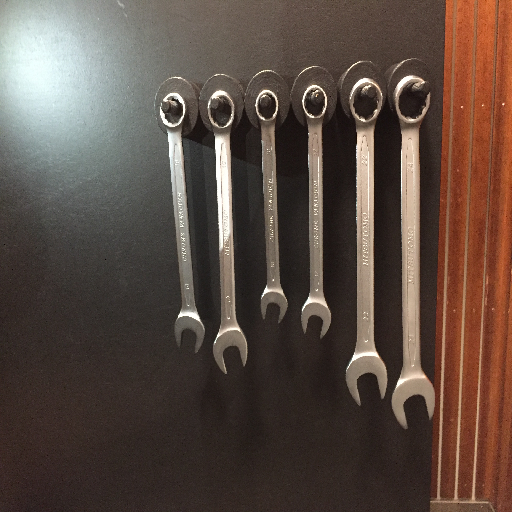bottom: (344, 350, 389, 408), (391, 373, 436, 431), (211, 325, 249, 375), (172, 308, 207, 355), (300, 296, 332, 340), (260, 282, 288, 325)
top: (392, 73, 432, 126), (347, 76, 382, 126), (300, 83, 331, 123), (206, 90, 235, 131), (253, 87, 281, 125), (159, 93, 187, 130)
